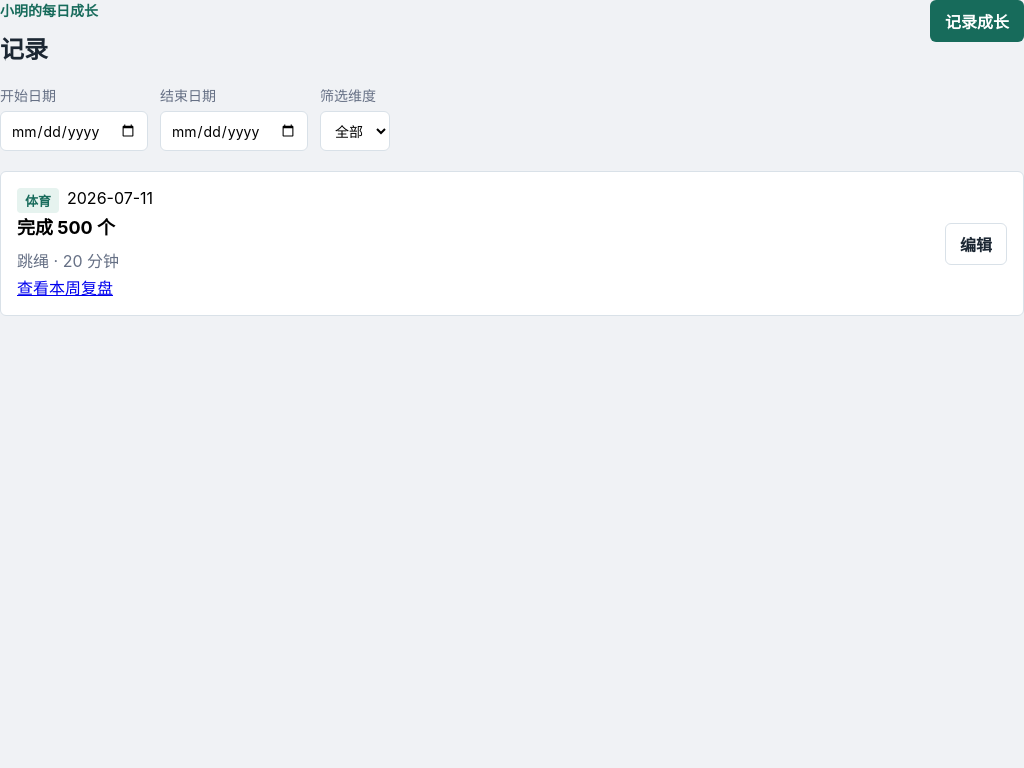
Task 9 growth logs › edits an existing growth log
Click the button with aria-label "编辑 完成 500 个" at (976, 244), box [945, 223, 1007, 265]
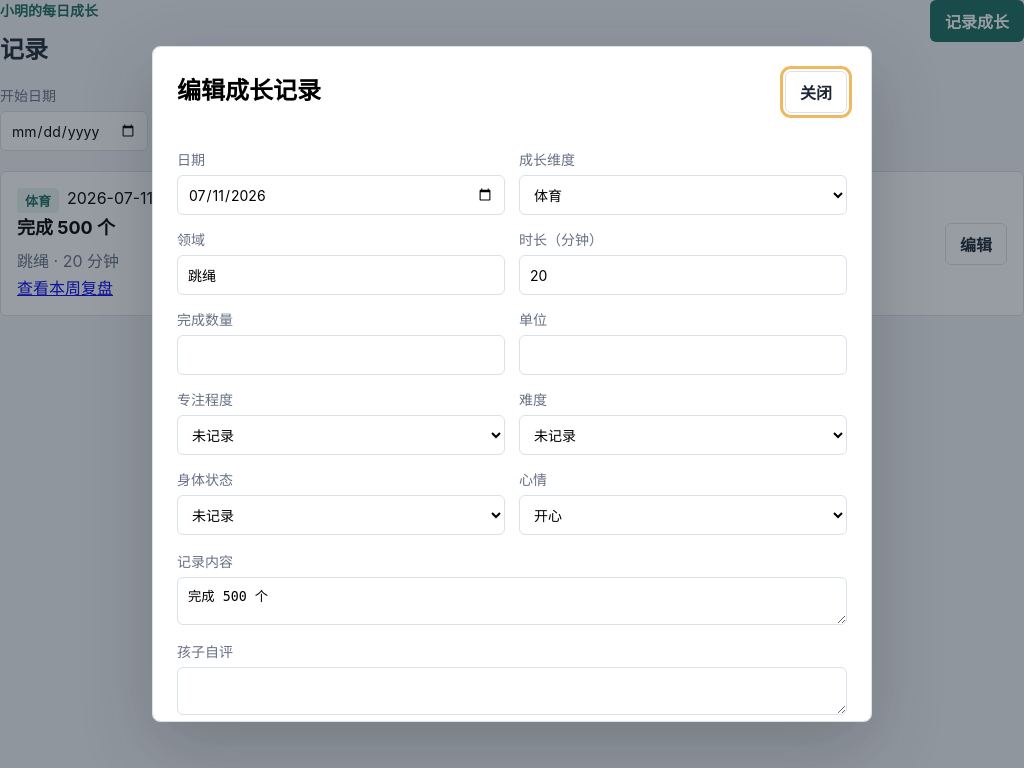
Replace the text in the text box labelled "记录内容" with "完成 600 个" at (512, 601), box [177, 577, 847, 625]
(page scrolled)
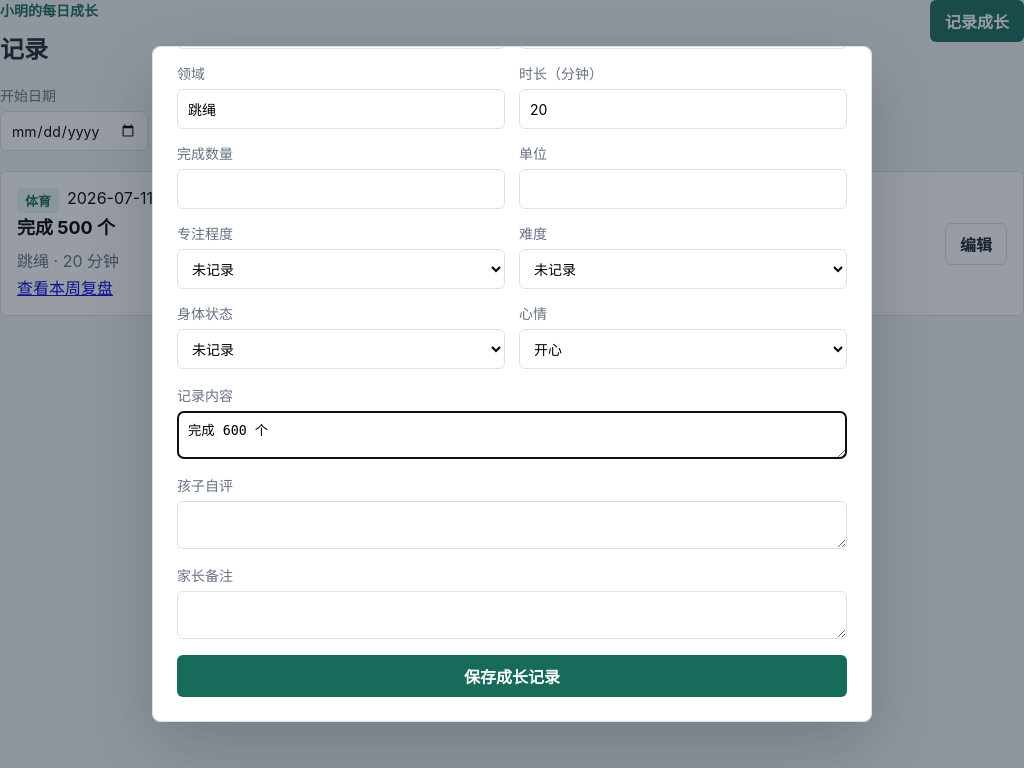
Click the button "保存成长记录" at (512, 676), box [177, 655, 847, 697]
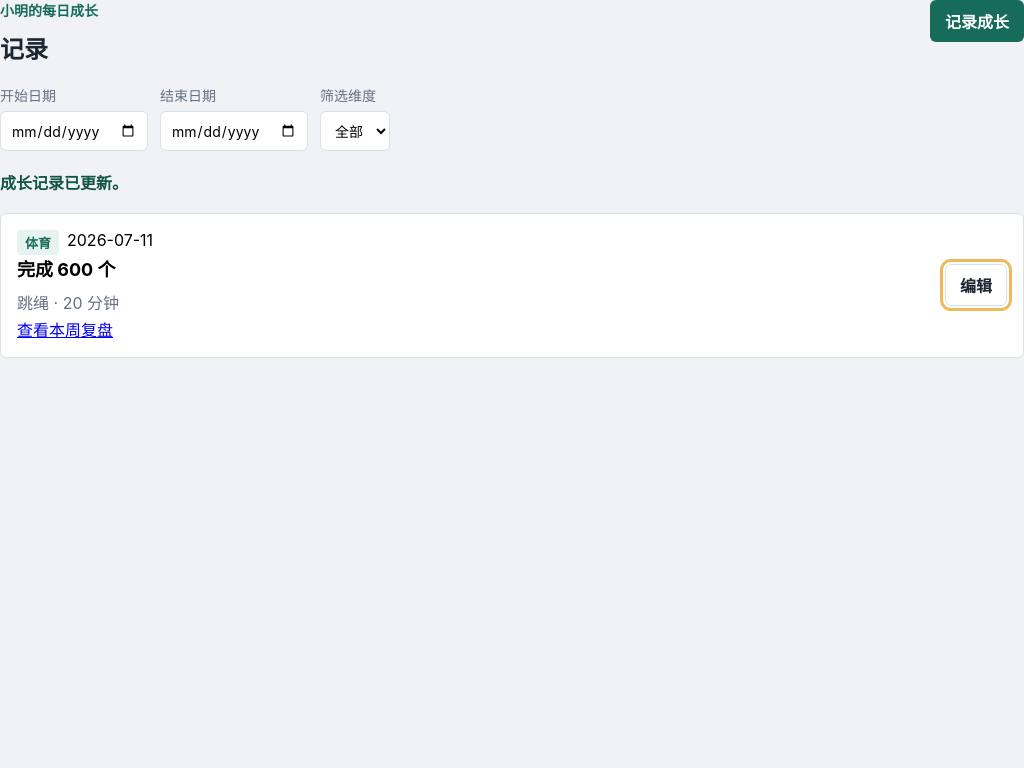
Result: the heading "完成 600 个" is shown at [17, 259, 116, 280]
